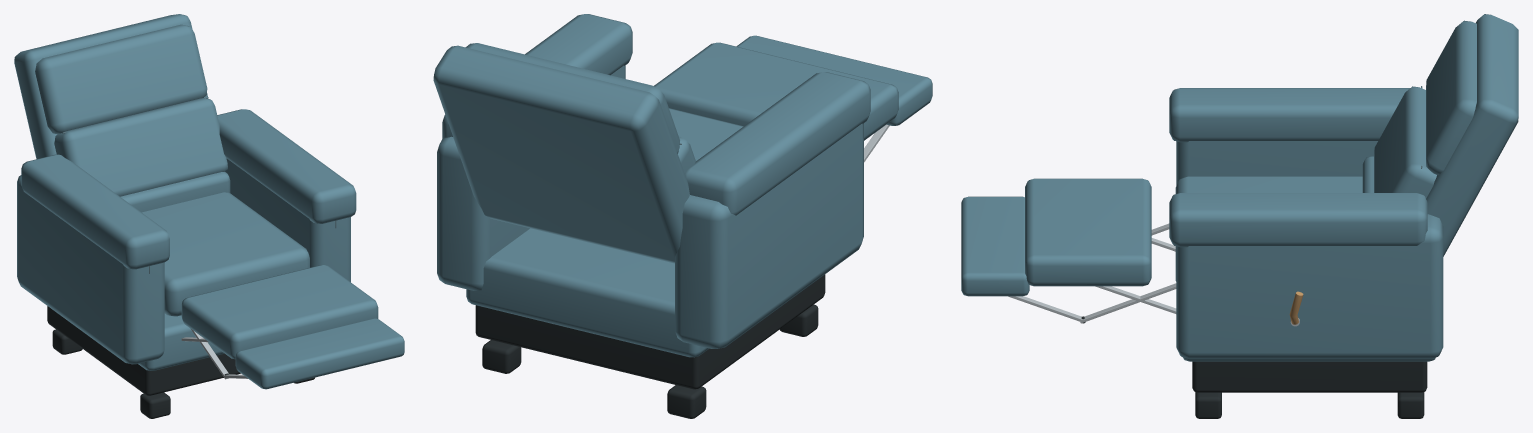
Rendered from manual-recliner-extended.glb.
3 views of the same model, side by side, from view 1: azimuth 30°, elevation 25°; view 2: azimuth 150°, elevation 25°; view 3: azimuth 270°, elevation 25° (orthographic). The views are drawn at different scales.
Parts seen in each view (by area): view 1: manual-recliner-extended authored assembly; view 2: manual-recliner-extended authored assembly; view 3: manual-recliner-extended authored assembly.
Part boxes in pixels (x1,y1,x2,y2): manual-recliner-extended authored assembly: (14, 14, 404, 418); manual-recliner-extended authored assembly: (433, 14, 932, 418); manual-recliner-extended authored assembly: (961, 14, 1518, 418).
Bounding box in the file's own units: 0.9 × 0.99 × 1.58.
